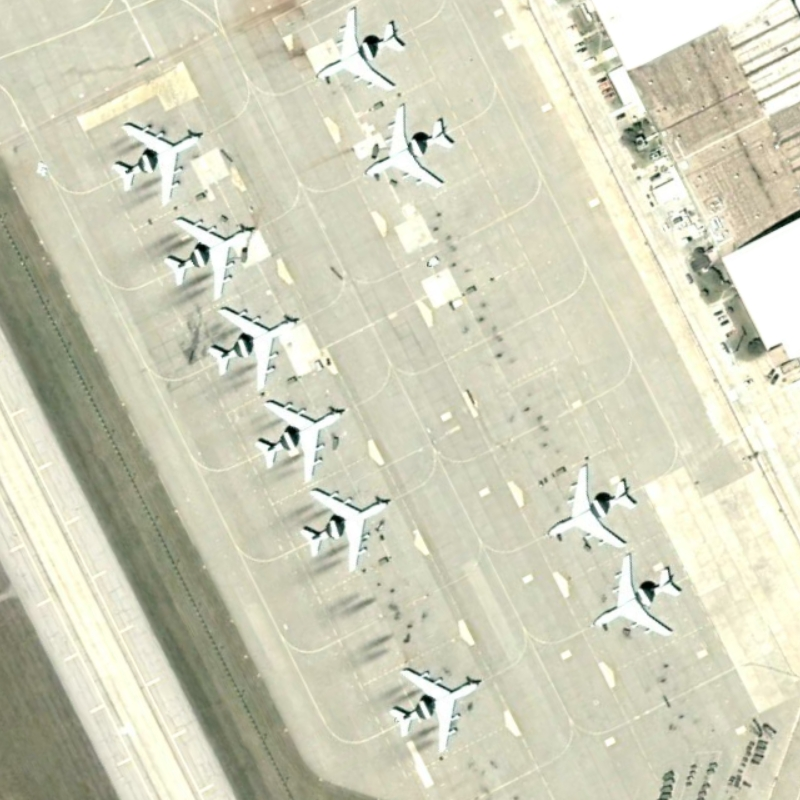A7: (359, 94, 466, 194), (106, 110, 211, 208), (295, 478, 395, 578), (547, 451, 643, 555), (387, 658, 483, 757), (204, 300, 305, 394), (587, 550, 685, 646), (250, 391, 343, 488), (165, 212, 262, 304), (313, 5, 408, 95)
